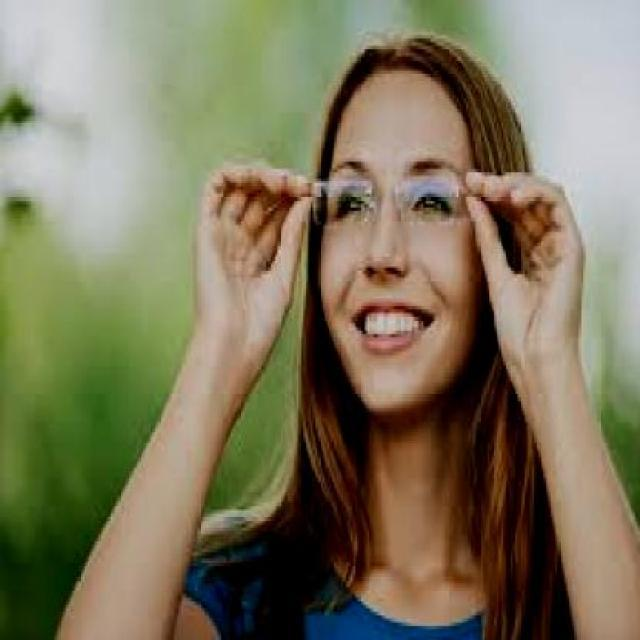mask: (306, 162, 474, 236)
